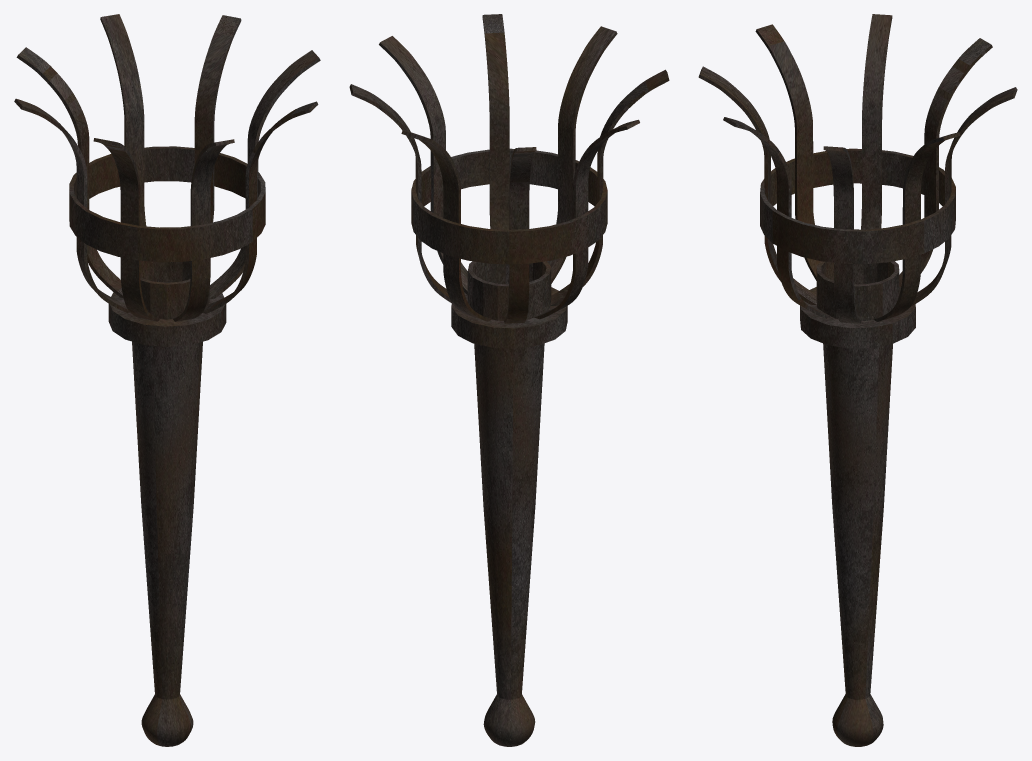
File: torch001.fbx
3 views of the same model, side by side, from view 1: azimuth 30°, elevation 25°; view 2: azimuth 150°, elevation 25°; view 3: azimuth 270°, elevation 25° (orthographic).
Visible parts, largest first — view 1: torch001; view 2: torch001; view 3: torch001.
Boxes of the visible parts, x1,y1,x2,y2 form: torch001: (14,14,320,746); torch001: (349,14,669,746); torch001: (698,14,1017,746).
Size of the model in its own units: 0.5891 by 1.35 by 0.5891.
Materials: 1 (1 with a texture image).
